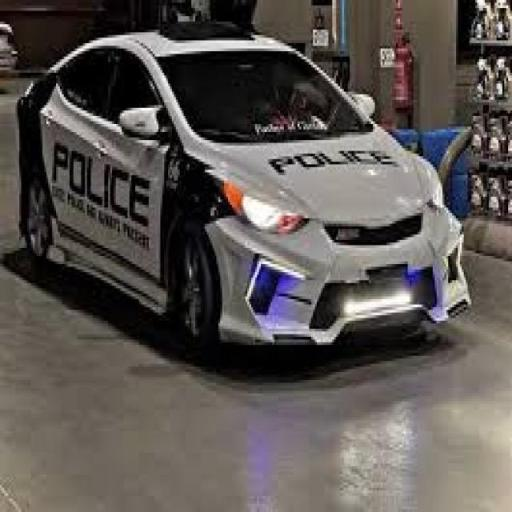Ambulance: (15, 19, 474, 364)
